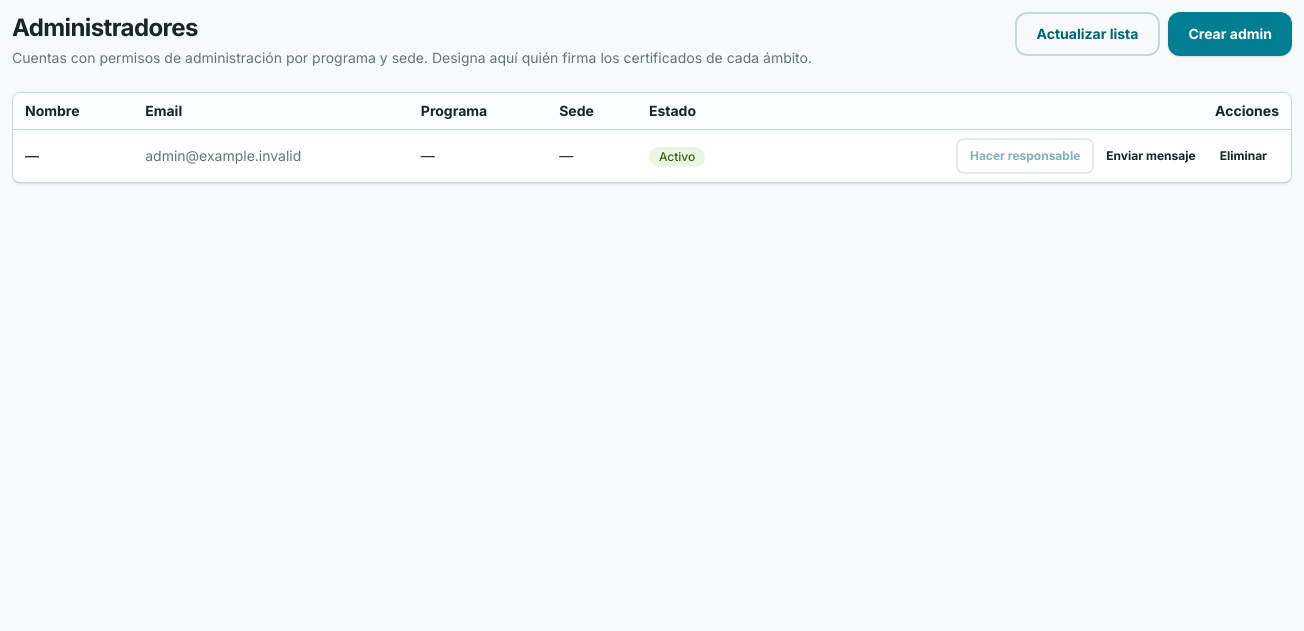
Scenario: uses a named native form without asking for an initial password
Expected: the text "admin@example.invalid" is shown, [133, 130, 409, 182]
Click the button "Crear admin" at (1230, 34), box [1168, 12, 1292, 56]
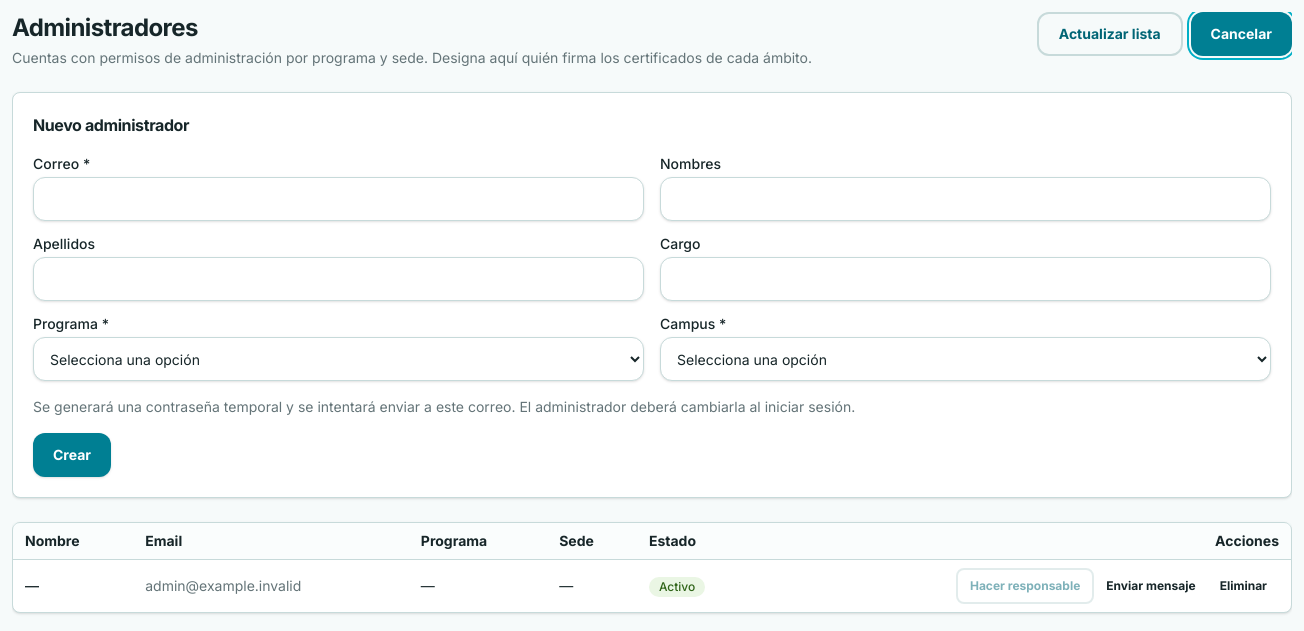
Expected: the dropdown labelled "Programa *" is shown, [33, 337, 644, 381]
Expected: the text "Se generará una contraseña temporal y se intentará enviar a este correo. El administrador deberá cambiarla al iniciar se" is shown, [33, 398, 855, 415]
